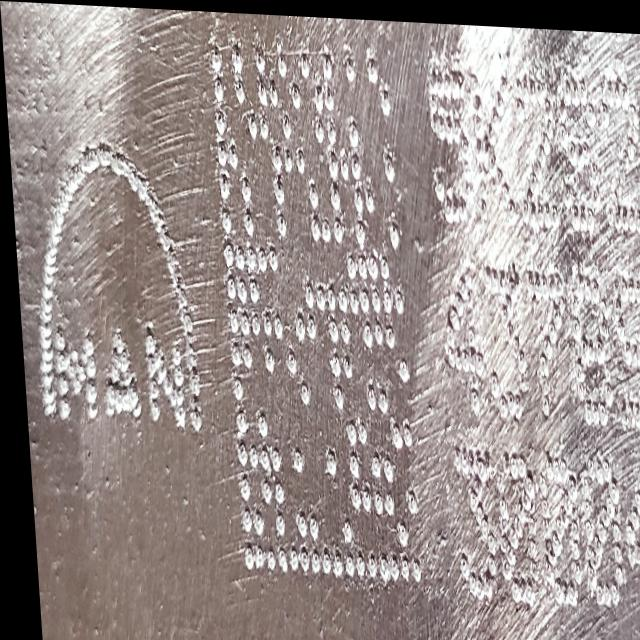dmc: (210, 43, 414, 578)
